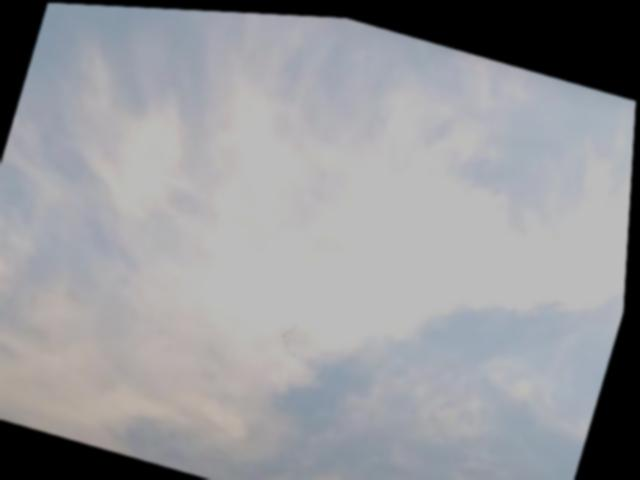iha: (264, 301, 271, 310)
